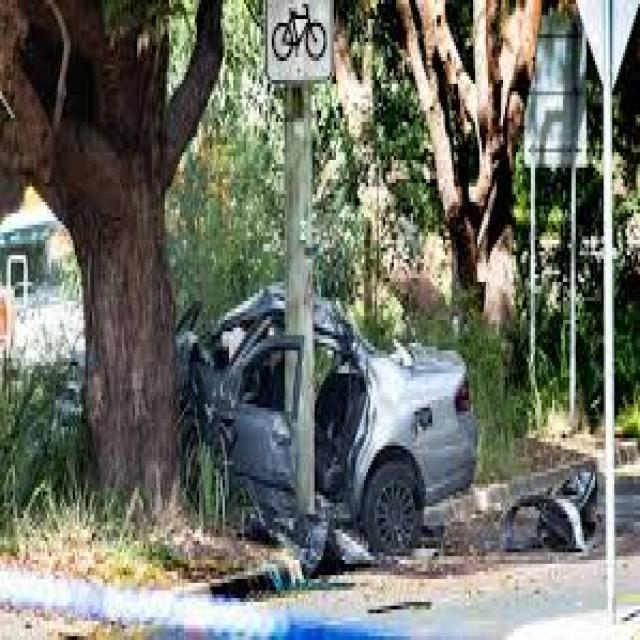accident: (147, 263, 480, 555)
